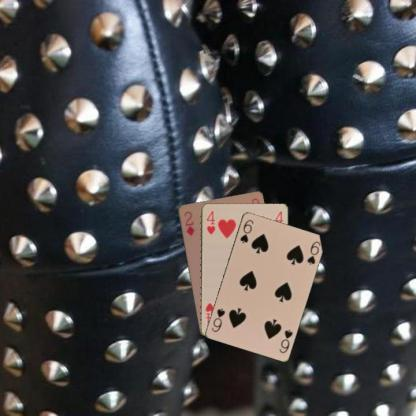2d: (181, 208, 196, 237)
4h: (204, 208, 216, 236)
6s: (276, 326, 294, 354), (238, 217, 254, 244)
